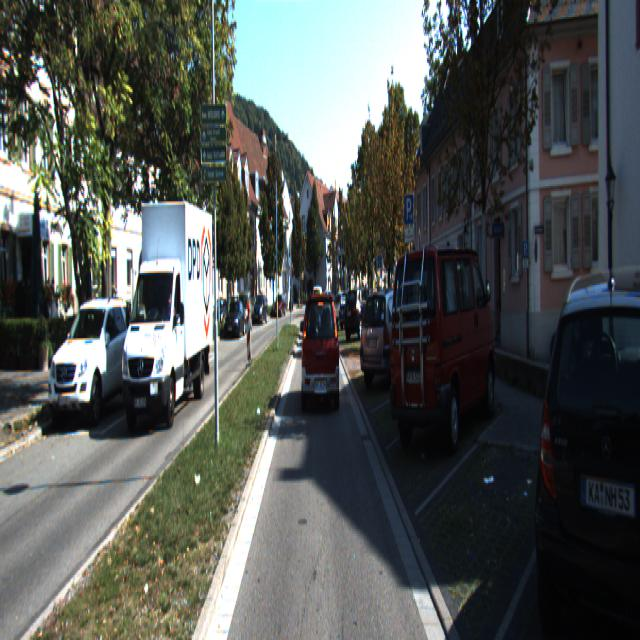Car: (535, 258, 639, 638), (387, 241, 500, 464), (118, 204, 214, 433), (48, 300, 136, 428), (360, 288, 428, 390), (302, 295, 340, 415), (547, 309, 621, 370), (128, 304, 179, 392), (88, 307, 129, 379), (344, 288, 382, 340), (172, 311, 207, 367), (337, 290, 364, 331), (224, 299, 246, 339), (237, 292, 253, 334), (252, 295, 268, 326)
